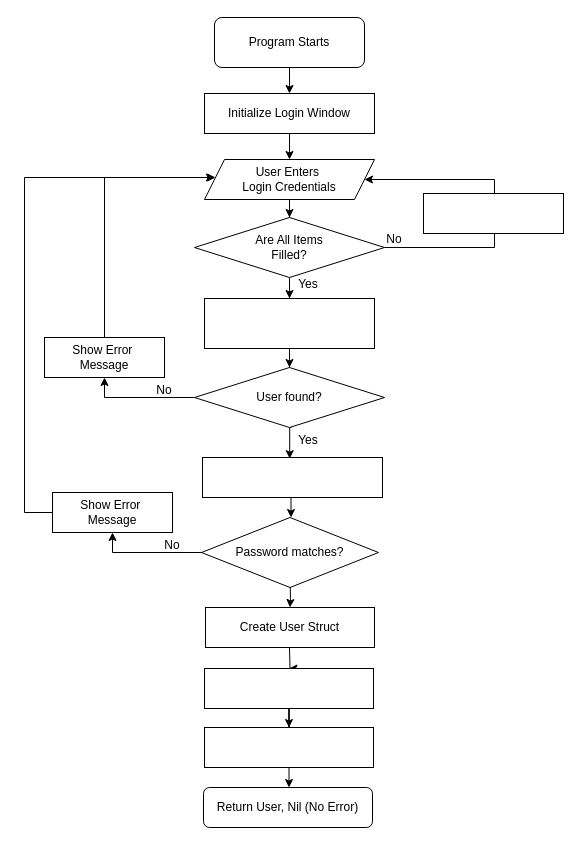
The diagram is 581 pixels wide and 845 high, and some of its shapes have lost their labels. Each missing label, with the centre of its shape:
"Create hash of input password" belongs at [292,477].
"Hide Login Window" belongs at [289,747].
"Load Current User in AppState" belongs at [289,688].
"Prompt User To Fill All Fields" belongs at [493,213].
"Query ID and Username from Database" belongs at [289,323].
